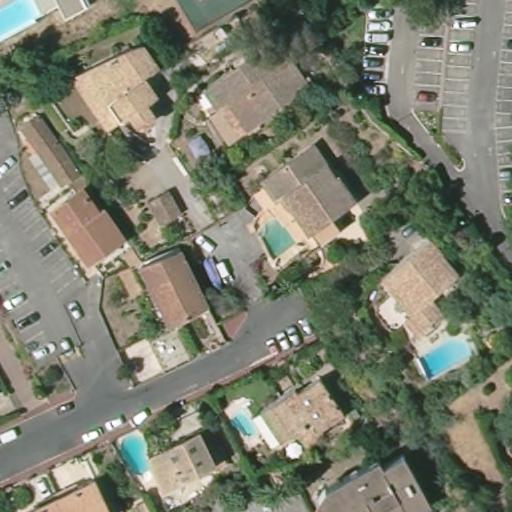pool: (419, 336, 471, 379), (0, 0, 42, 45), (256, 213, 293, 258), (117, 430, 150, 474), (229, 411, 259, 439)
